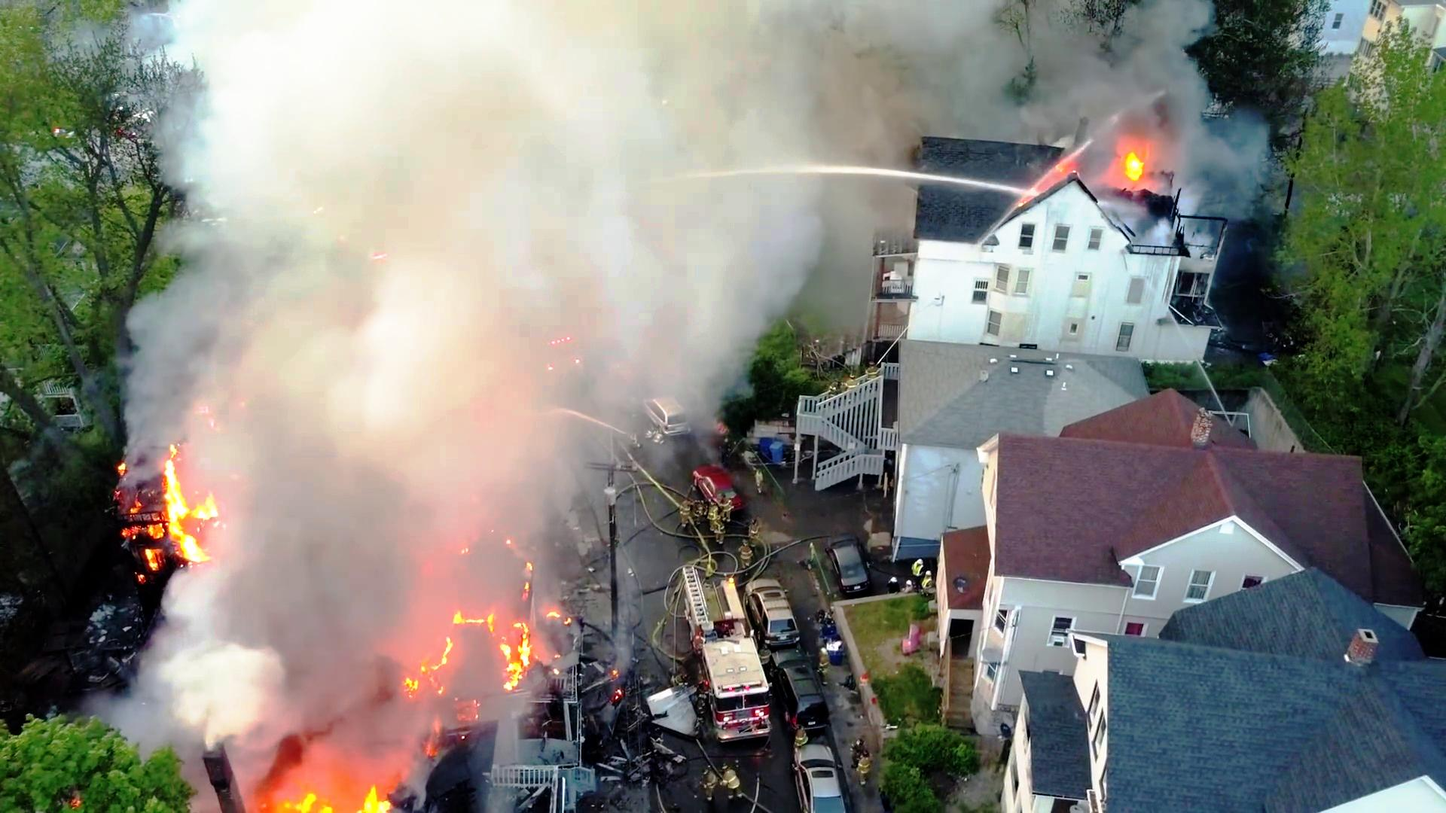fire: (120, 454, 213, 559), (260, 761, 399, 813)
smoke: (358, 0, 792, 290), (256, 477, 421, 748)
